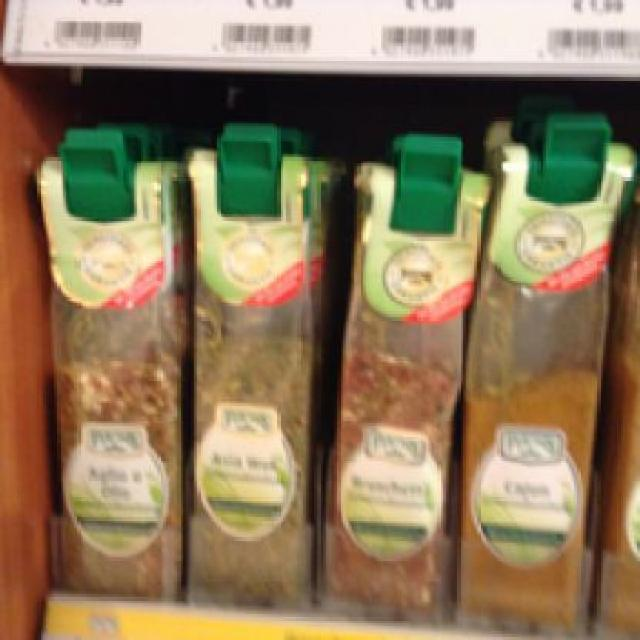Spices: (457, 140, 626, 620), (320, 157, 486, 614), (180, 146, 320, 603), (37, 152, 180, 592)
